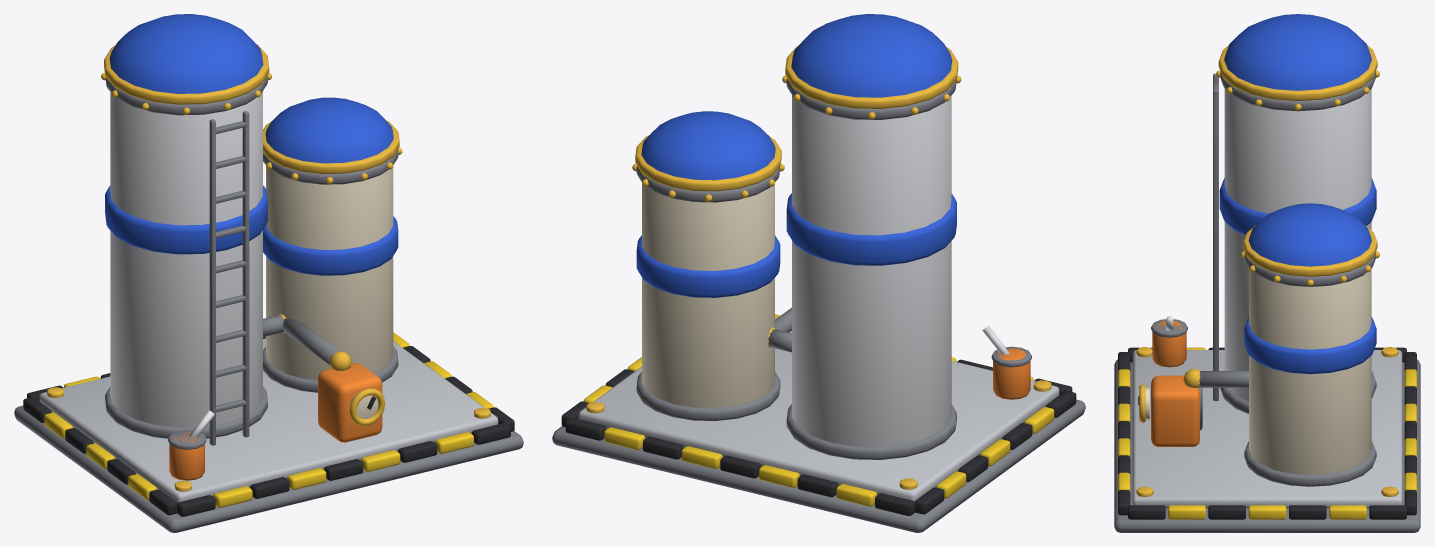
Rendered from Mill.glb.
The picture shows the model from 3 angles, left to right: view 1: azimuth 30°, elevation 25°; view 2: azimuth 150°, elevation 25°; view 3: azimuth 270°, elevation 25°; orthographic projection. The views are drawn at different scales.
Parts seen in each view (by area): view 1: Mill; view 2: Mill; view 3: Mill.
Boxes of the visible parts, x1=… form: Mill: x1=14, y1=14, x2=523, y2=532; Mill: x1=552, y1=14, x2=1085, y2=532; Mill: x1=1114, y1=14, x2=1420, y2=532.
Bounding box in the file's own units: 3.2 × 3.57 × 2.5.
